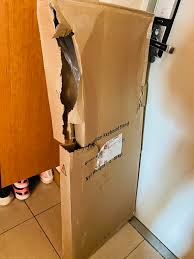damaged package: (44, 1, 102, 163), (86, 121, 135, 197), (133, 73, 149, 131)
